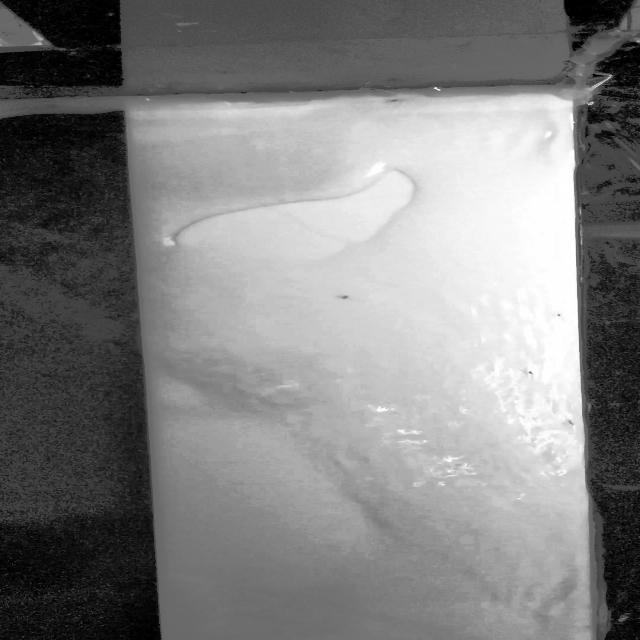shrimp: (332, 290, 358, 302), (543, 311, 570, 320), (525, 369, 541, 379), (566, 419, 576, 427)
